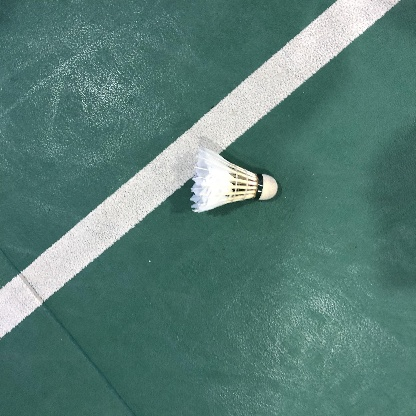ball_single: (190, 147, 277, 213)
